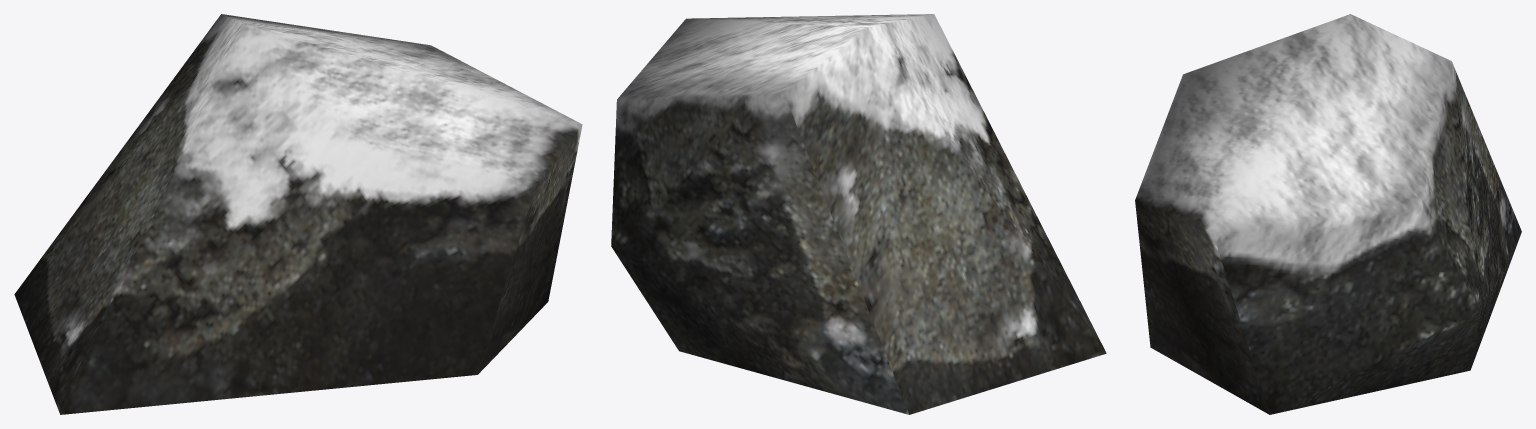
Rendered from Rock_small2.fbx.
3 views of the same model, side by side, from view 1: azimuth 30°, elevation 25°; view 2: azimuth 150°, elevation 25°; view 3: azimuth 270°, elevation 25° (orthographic). The views are drawn at different scales.
Parts seen in each view (by area): view 1: polySurface3; view 2: polySurface3; view 3: polySurface3.
Part boxes in pixels (bbox=[...]): polySurface3: bbox=[14, 14, 582, 414]; polySurface3: bbox=[611, 14, 1106, 414]; polySurface3: bbox=[1135, 14, 1521, 414].
Size of the model in its own units: 0.1542 by 0.0987 by 0.1162.
